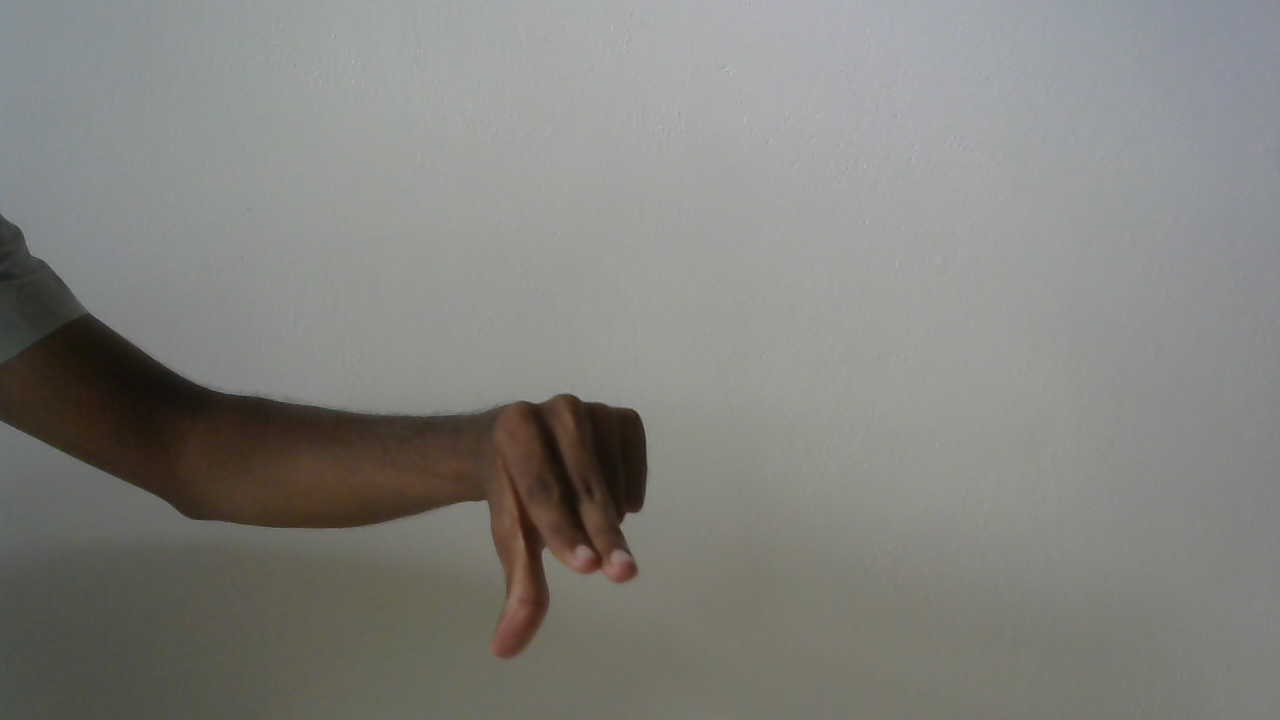no: (469, 368, 669, 673)
